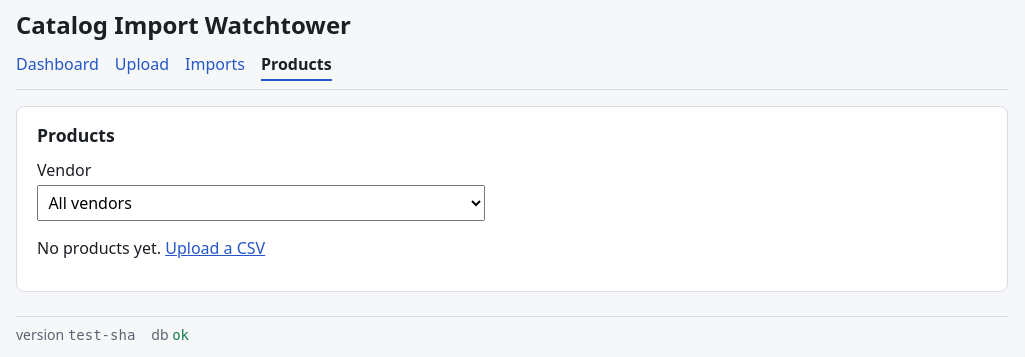
Test case: Products page › shows the empty states for no products at all and for a vendor without products
Expected: the text "No products yet." is shown, left=37, top=237, right=165, bottom=259
Step 1. Select "Empty Vendor" in the dropdown labelled "Vendor" → {"x": 261, "y": 203}, box left=37, top=185, right=485, bottom=221
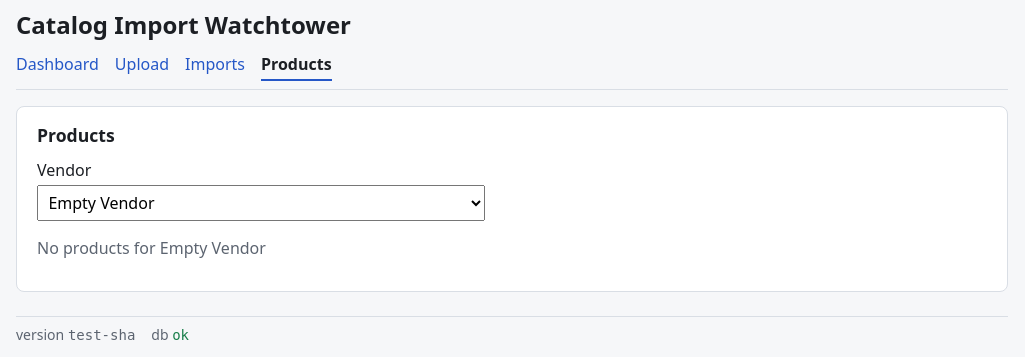
Expected: the text "No products for Empty Vendor" is shown, left=37, top=237, right=266, bottom=259
